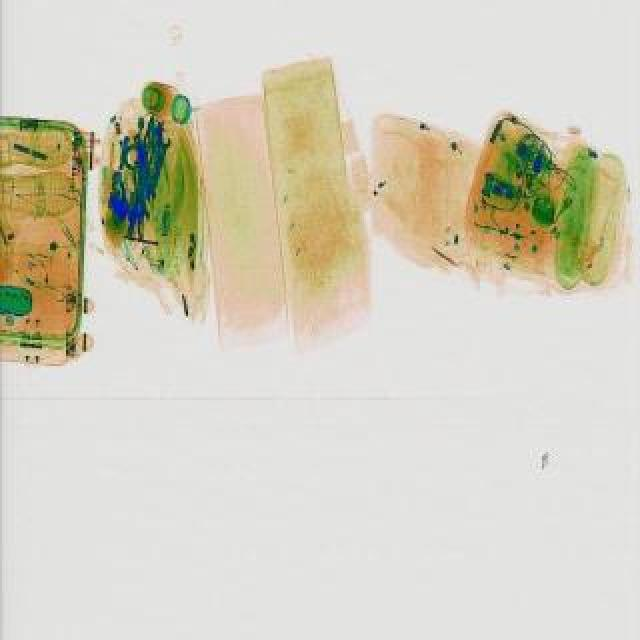scissors: (140, 136, 174, 204), (136, 152, 148, 226)
